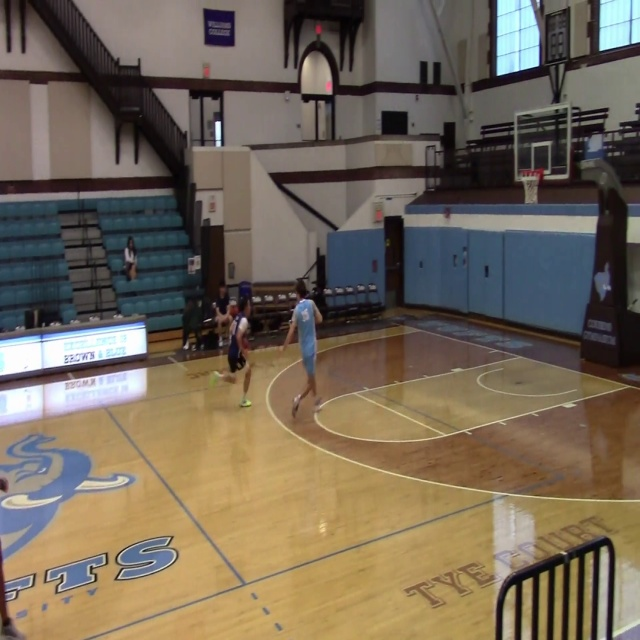Basketball: (229, 305, 238, 316)
